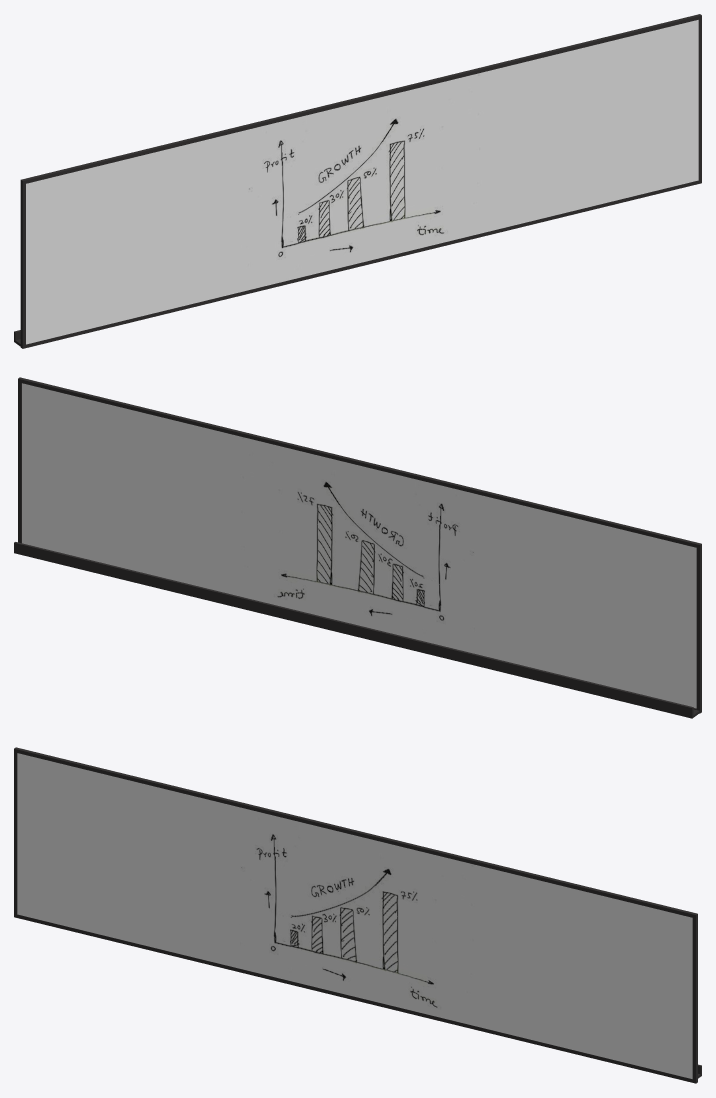
File: Room4_Whiteboard.fbx
The picture shows the model from 3 angles, top to bottom: view 1: azimuth 30°, elevation 25°; view 2: azimuth 150°, elevation 25°; view 3: azimuth 330°, elevation 25°; orthographic projection.
Visible parts, largest first — view 1: Obj3d66-1468731-206-212, Obj3d66-1468731-207-319; view 2: Obj3d66-1468731-206-212, Obj3d66-1468731-237-891, Obj3d66-1468731-207-319; view 3: Obj3d66-1468731-206-212, Obj3d66-1468731-207-319.
Part boxes in pixels (left/top/right/bottom): Obj3d66-1468731-206-212: left=26, top=20, right=698, bottom=344; Obj3d66-1468731-207-319: left=20, top=14, right=701, bottom=348; Obj3d66-1468731-206-212: left=22, top=383, right=696, bottom=708; Obj3d66-1468731-237-891: left=14, top=542, right=699, bottom=718; Obj3d66-1468731-207-319: left=18, top=377, right=701, bottom=713; Obj3d66-1468731-206-212: left=17, top=753, right=692, bottom=1078; Obj3d66-1468731-207-319: left=14, top=747, right=697, bottom=1083.
Size of the model in its own units: 407 by 95.99 by 9.53.
